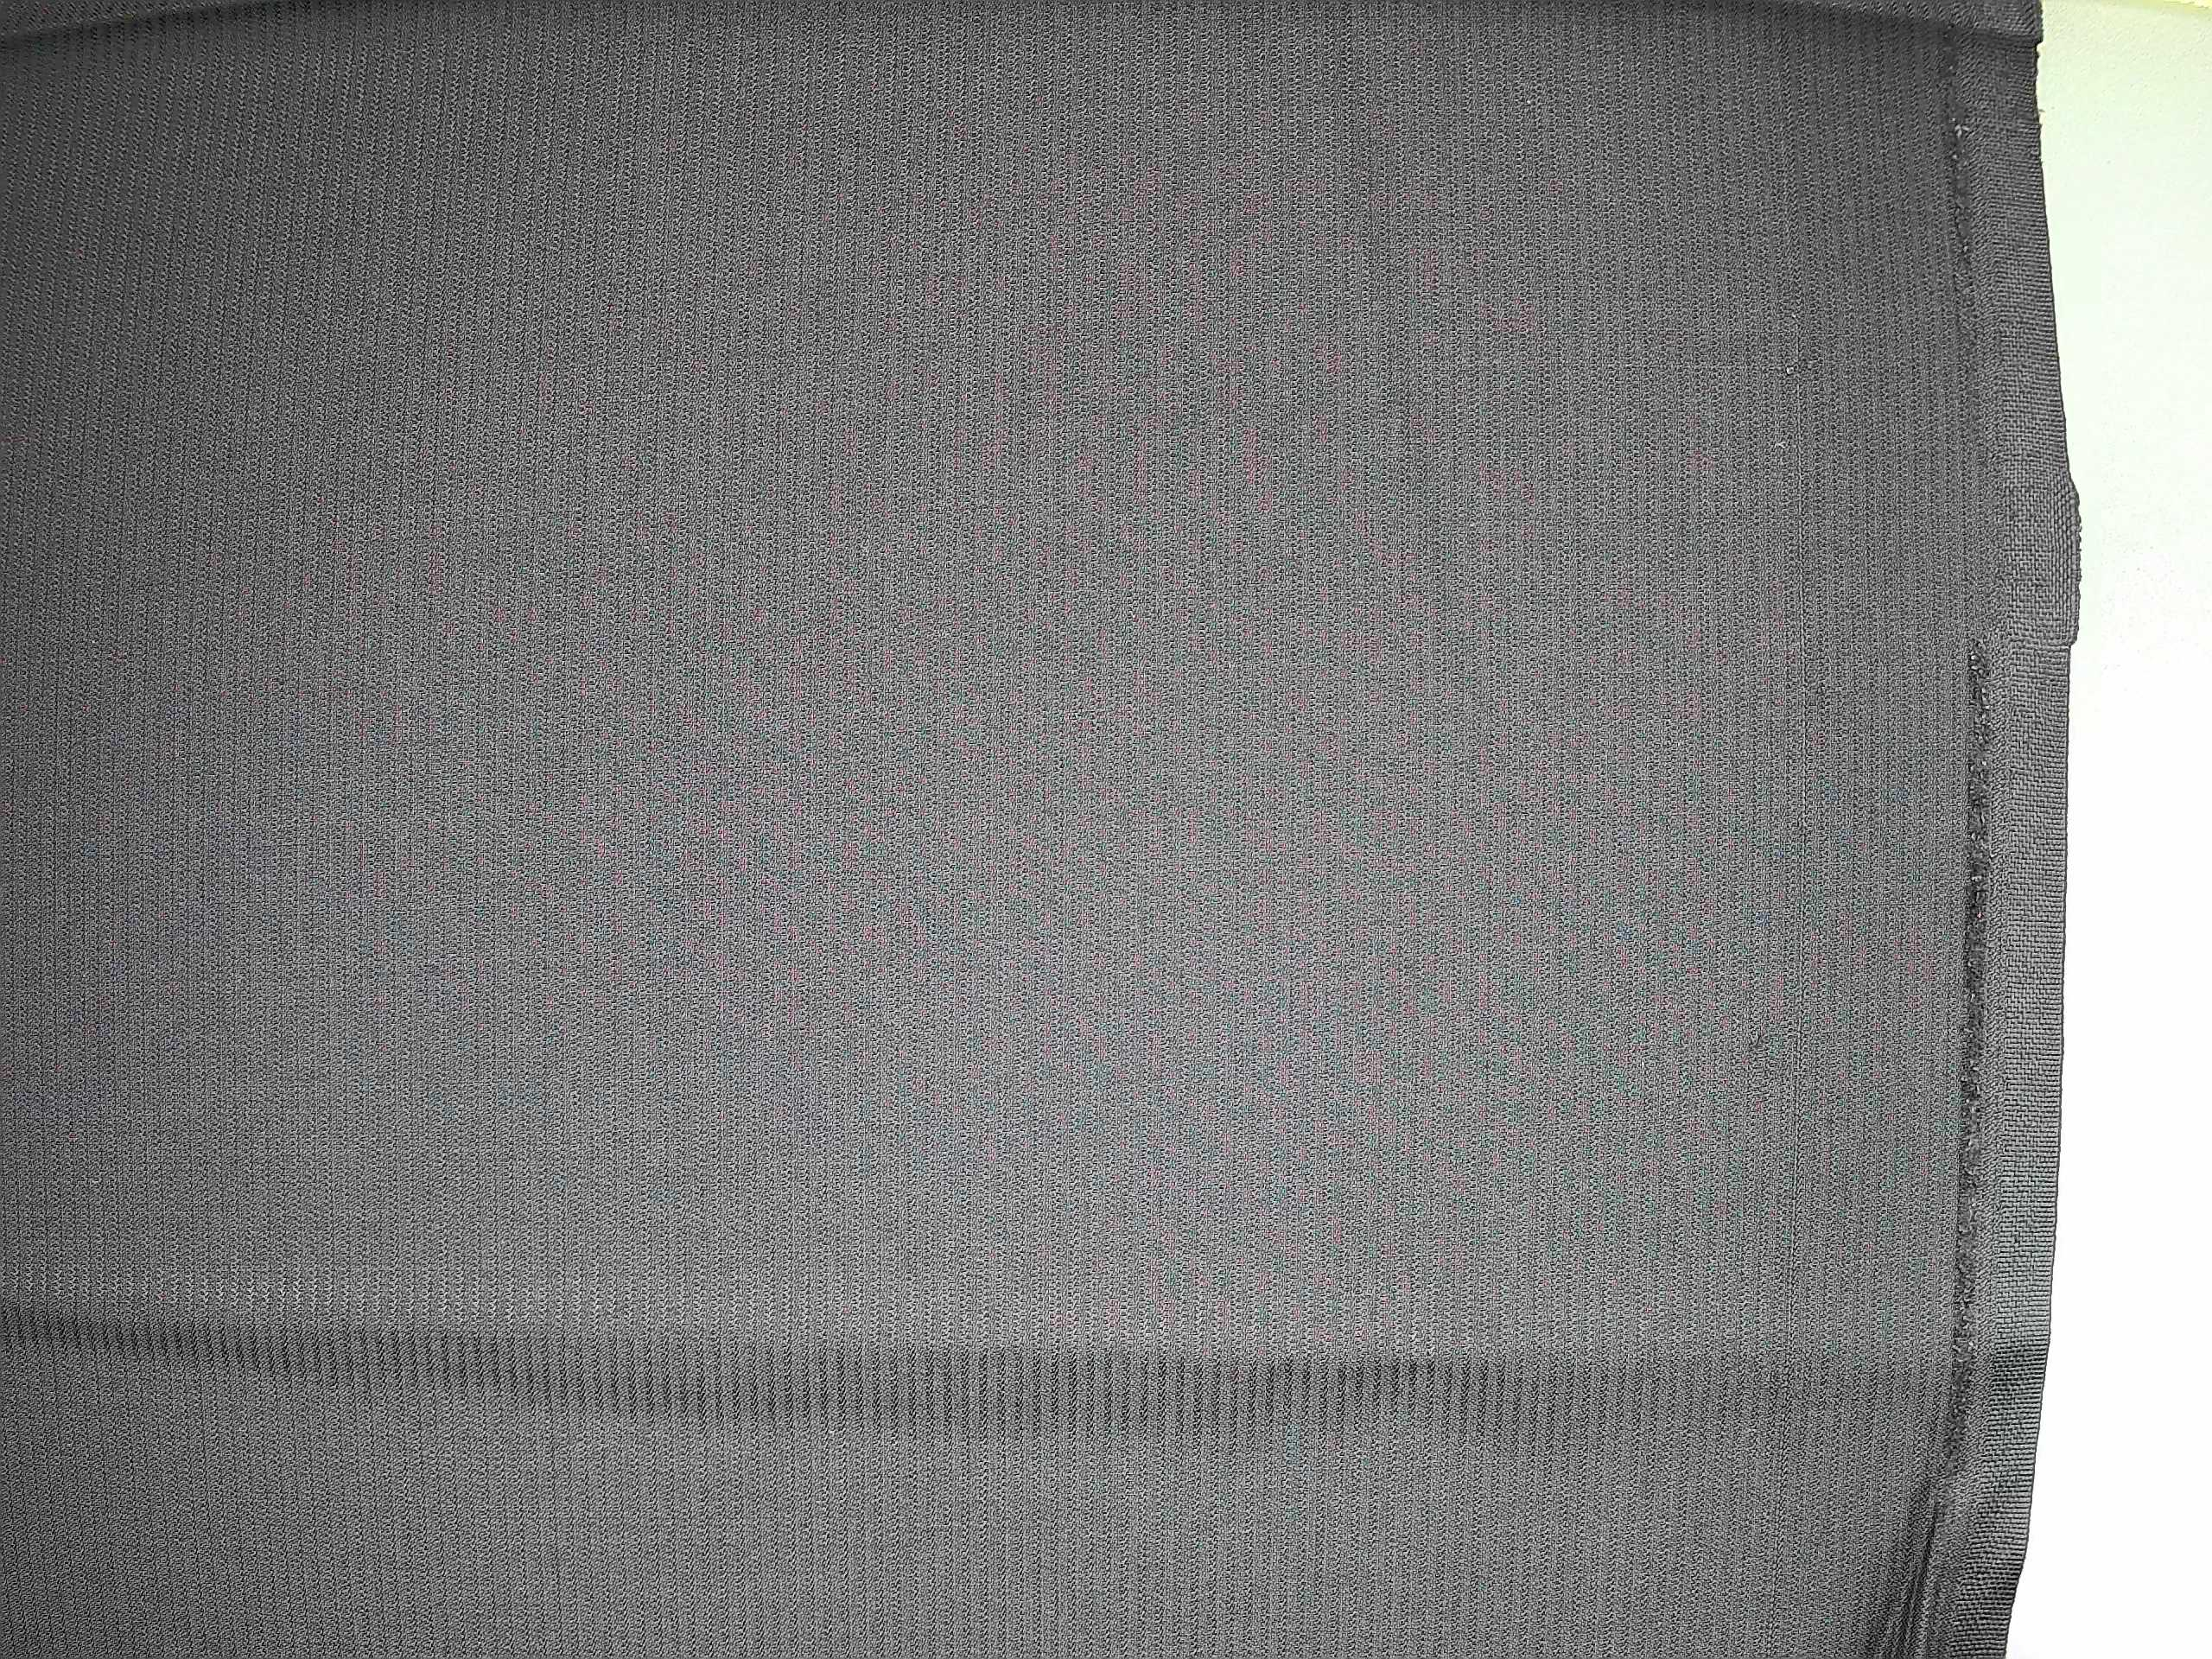hanging-warp: (1757, 0, 1813, 1652)
